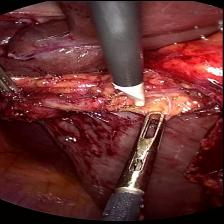Grasper: (138, 110, 164, 162)
Hook: (101, 79, 148, 108)
